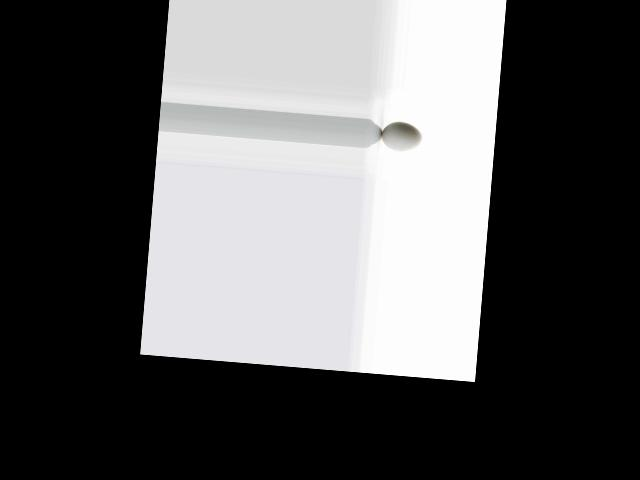egg: (380, 120, 422, 152)
